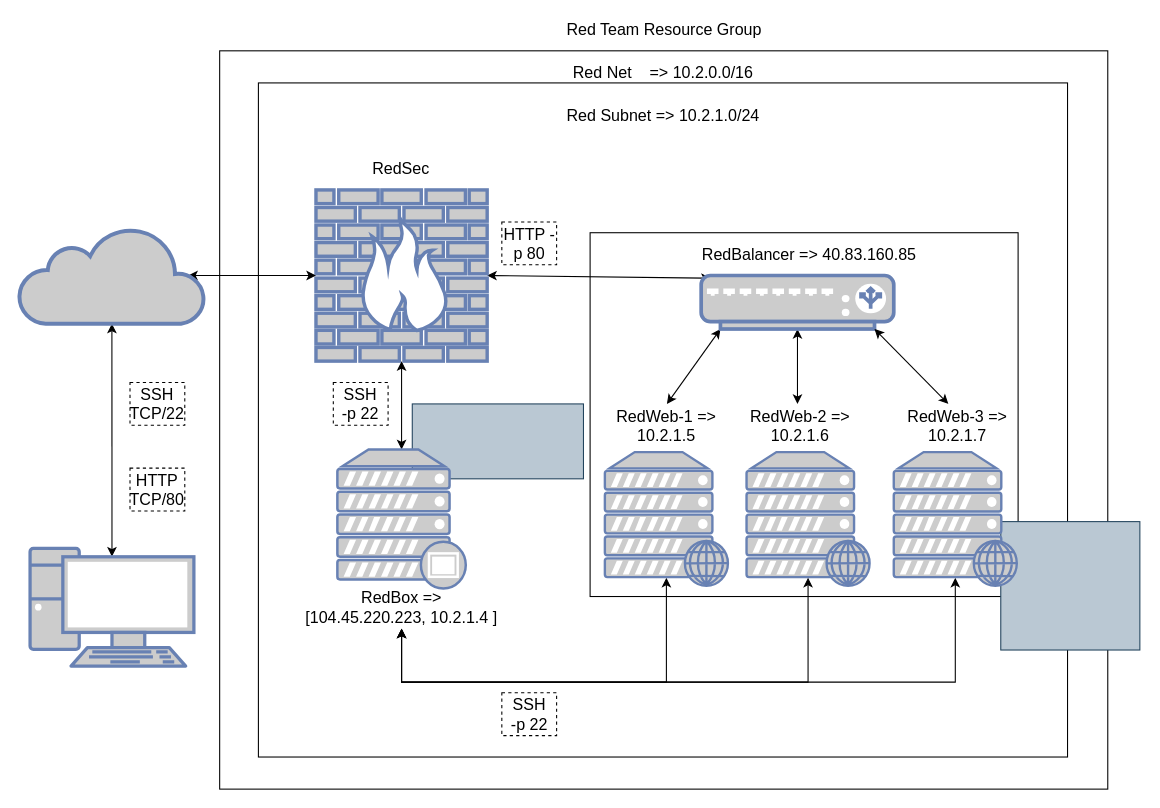
Some shapes in this 1160 by 808 pixel diagram are drawn without their labels. The shapes that lost their labels are listed below. From the top down, each one's centre as x and y in pixels, then its label:
At (x=497, y=441): "Hosting an Ansible Docker container".
At (x=1070, y=585): "Hosting DVWA docker containers, configured through Ansible".
